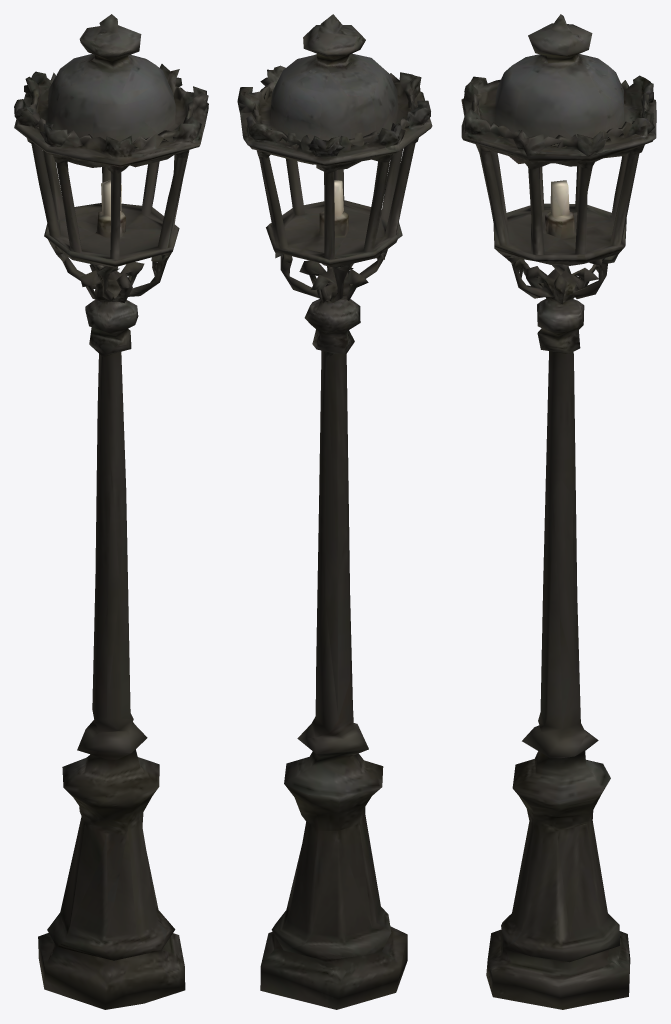
Rendered from street_lamp.glb.
3 views of the same model, side by side, from view 1: azimuth 30°, elevation 25°; view 2: azimuth 150°, elevation 25°; view 3: azimuth 270°, elevation 25° (orthographic).
Parts seen in each view (by area): view 1: tripo_node_50128dad-f0db-4c75-b133-854509421b14; view 2: tripo_node_50128dad-f0db-4c75-b133-854509421b14; view 3: tripo_node_50128dad-f0db-4c75-b133-854509421b14.
Boxes of the visible parts, x1,y1,x2,y2 form: tripo_node_50128dad-f0db-4c75-b133-854509421b14: (14, 14, 208, 1009); tripo_node_50128dad-f0db-4c75-b133-854509421b14: (237, 14, 432, 1009); tripo_node_50128dad-f0db-4c75-b133-854509421b14: (461, 14, 656, 1009).
Bounding box in the file's own units: 0.711 × 4 × 0.7344.
1 material, 1 textured.
